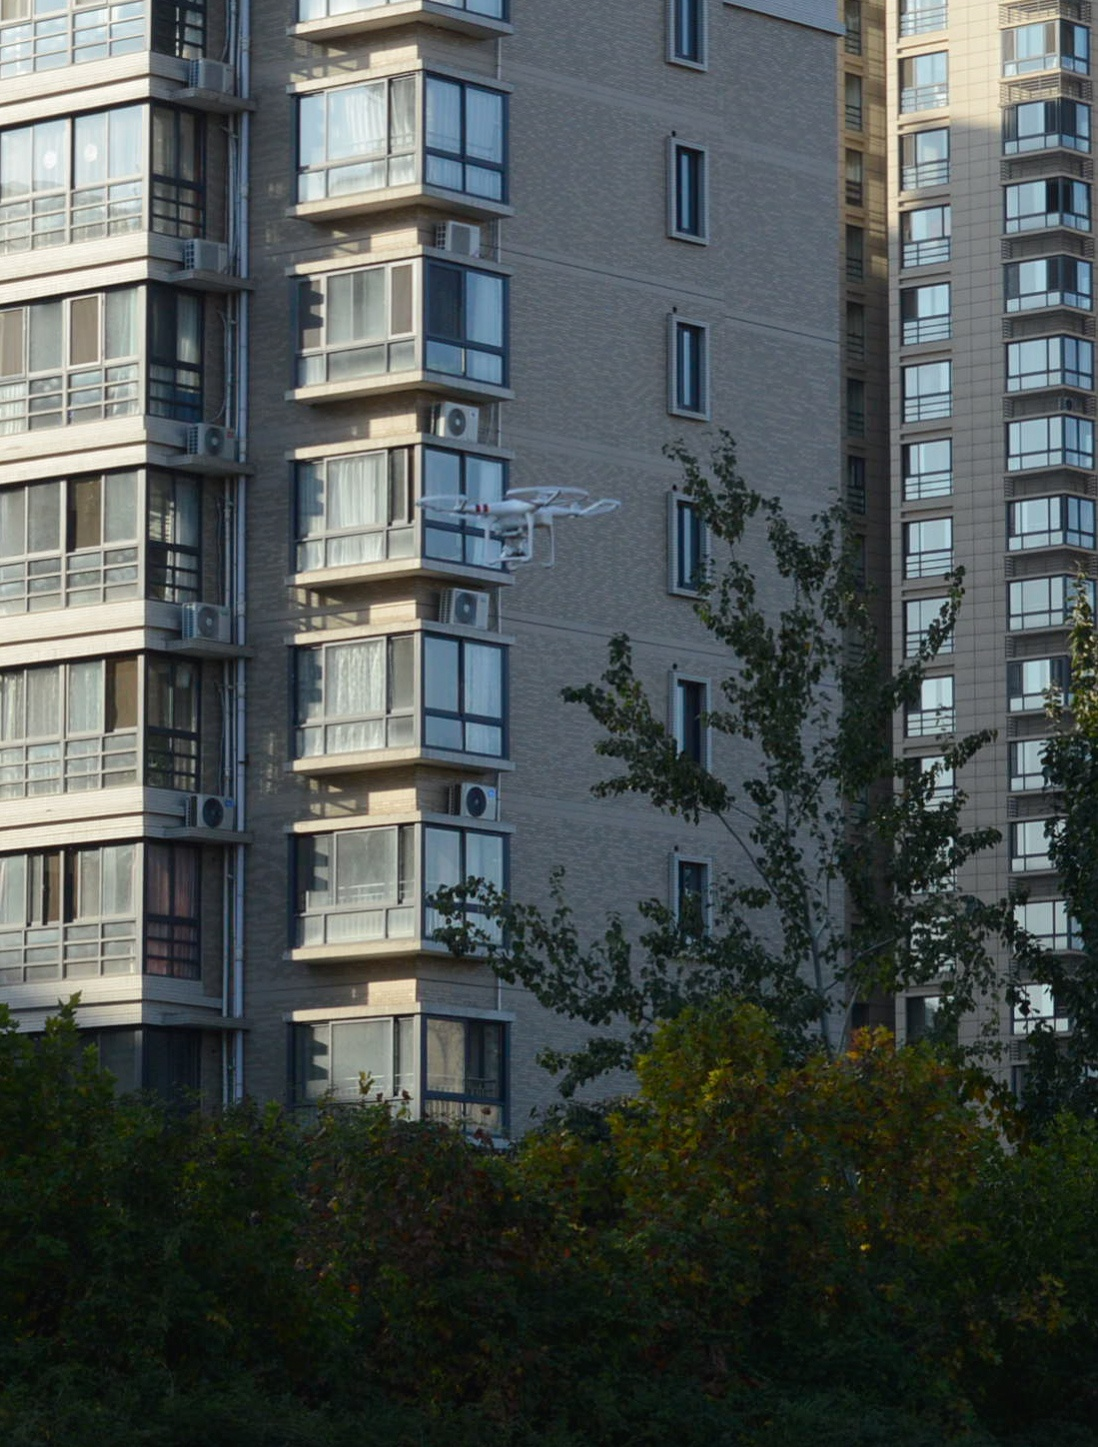DJI: (414, 484, 630, 572)
